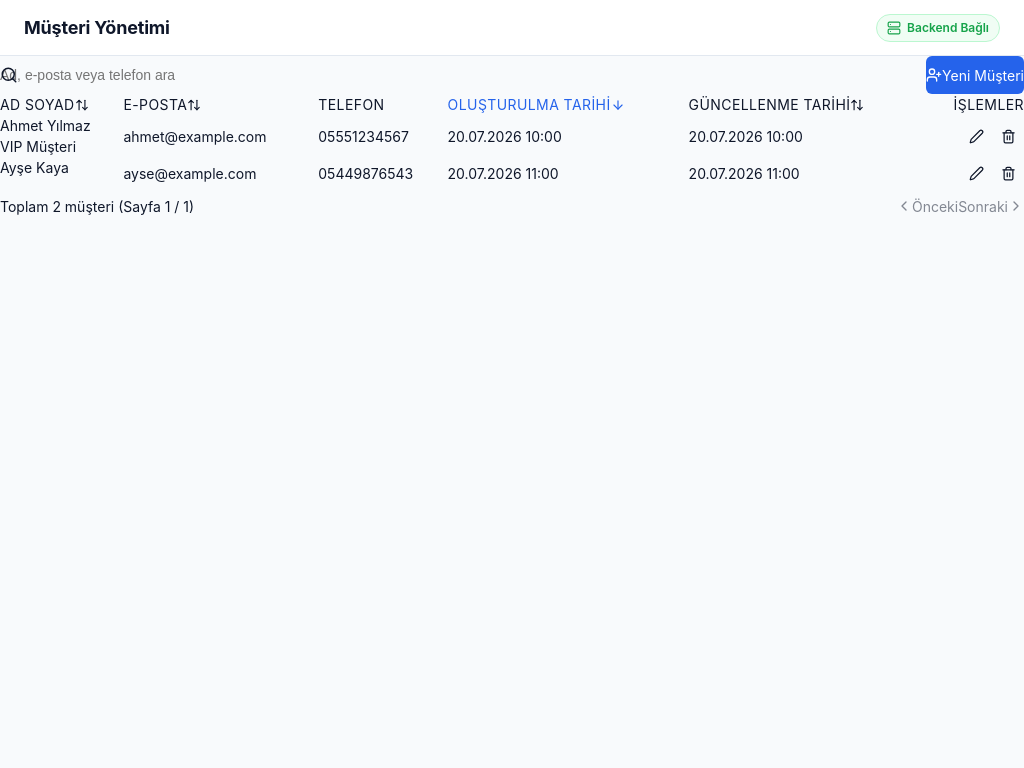
Test: CustomersPage Integration › opens delete confirmation dialog and deletes customer
The image size is (1024, 768).
Expected: the text "Ahmet Yılmaz" is shown, [0,117,91,134]
Click the button named "Ahmet Yılmaz müşterisini sil" at (1008, 136), box [992,120,1023,152]
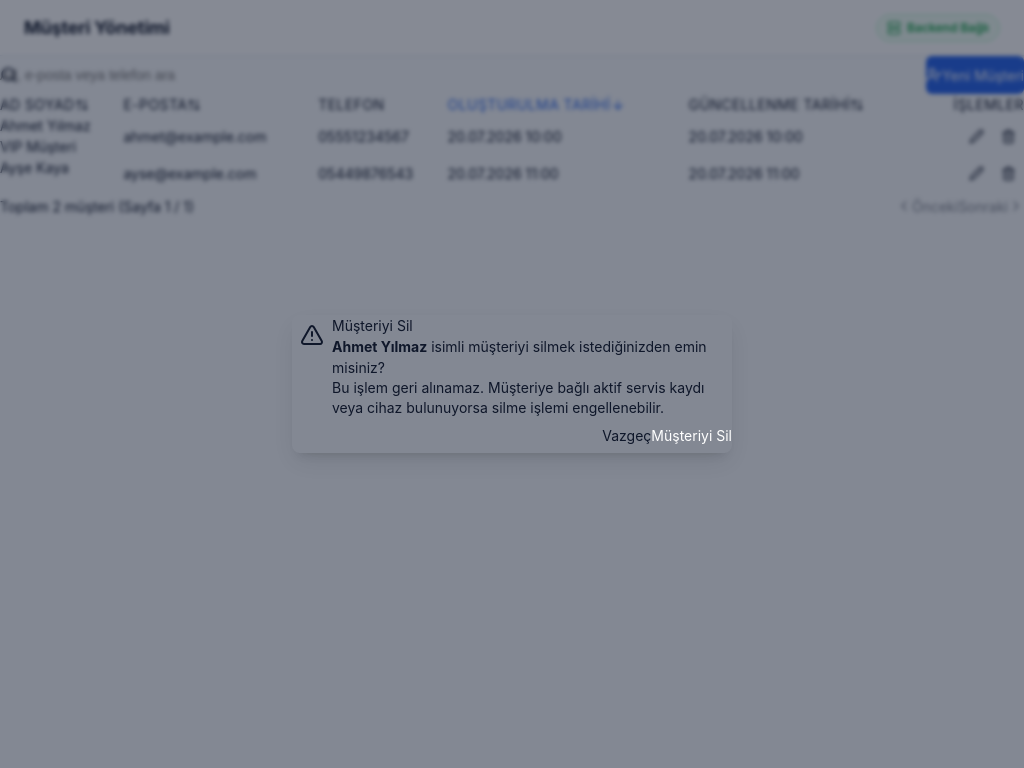
Result: the dialog "Müşteriyi Sil" is shown at [292,315,732,453]
Result: the text "Ahmet Yılmaz" is shown at [332,338,427,355]
Click the button "Müşteriyi Sil" at (692, 435), box [651,417,732,453]
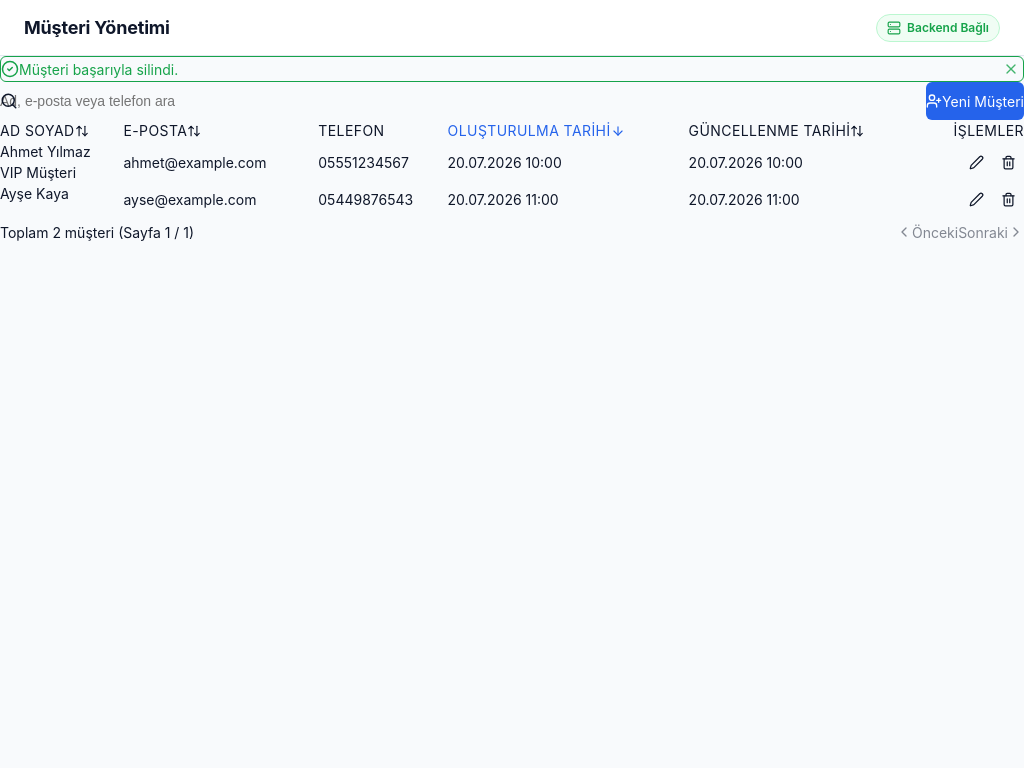
Result: the text "Müşteri başarıyla silindi." is shown at [19,60,178,78]
